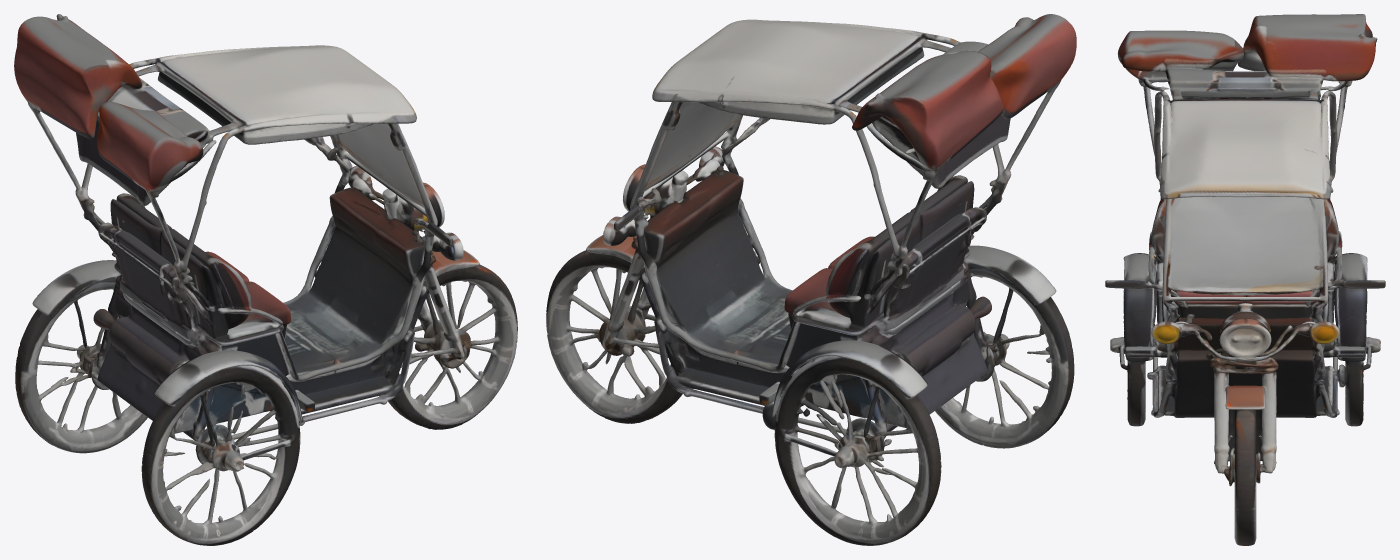
The model's file is bike.glb.
The picture shows the model from 3 angles, left to right: view 1: azimuth 30°, elevation 25°; view 2: azimuth 150°, elevation 25°; view 3: azimuth 270°, elevation 25°; orthographic projection. The views are drawn at different scales.
Visible parts, largest first — view 1: tripo_node_6a82e4a8-3624-4473-aa4c-4afd69ee8b10; view 2: tripo_node_6a82e4a8-3624-4473-aa4c-4afd69ee8b10; view 3: tripo_node_6a82e4a8-3624-4473-aa4c-4afd69ee8b10.
Part boxes in pixels (x1,y1,x2,y2): tripo_node_6a82e4a8-3624-4473-aa4c-4afd69ee8b10: [14, 14, 517, 545]; tripo_node_6a82e4a8-3624-4473-aa4c-4afd69ee8b10: [546, 14, 1076, 545]; tripo_node_6a82e4a8-3624-4473-aa4c-4afd69ee8b10: [1105, 14, 1385, 545].
Size of the model in its own units: 1.05 by 1.02 by 0.6845.
Materials: 1 (1 with a texture image).
